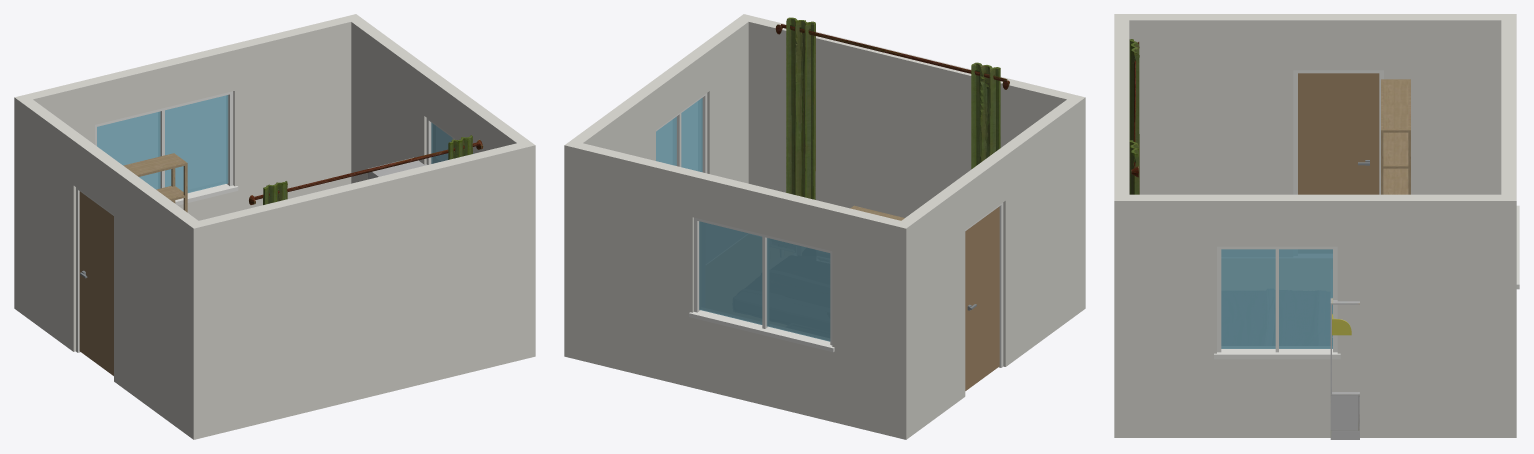
Rendered from layoutgpt.glb.
3 views of the same model, side by side, from view 1: azimuth 30°, elevation 25°; view 2: azimuth 150°, elevation 25°; view 3: azimuth 270°, elevation 25° (orthographic). The views are drawn at different scales.
Parts seen in each view (by area): view 1: wall|scenesmith_024__R00|0, wall|scenesmith_024__R00|2, wall|scenesmith_024__R00|1, wall|scenesmith_024__R00|3, wall|scenesmith_024__R00|1 Window 0 | glazing, wall|scenesmith_024__R00|2 Door 0 | wood leaf, wall|scenesmith_024__R00|1 Window 0 | jamb, scenesmith_024__R00_8, raw_model.003, wall|scenesmith_024__R00|2 Door 0 | jamb, wall|scenesmith_024__R00|3 Window 0 | glazing; view 2: wall|scenesmith_024__R00|1, wall|scenesmith_024__R00|0, wall|scenesmith_024__R00|2, wall|scenesmith_024__R00|3, wall|scenesmith_024__R00|1 Window 0 | glazing, scenesmith_024__R00_8, wall|scenesmith_024__R00|2 Door 0 | wood leaf, wall|scenesmith_024__R00|1 Window 0 | jamb, wall|scenesmith_024__R00|3 Window 0 | glazing, wall|scenesmith_024__R00|2 Door 0 | jamb, wall|scenesmith_024__R00|3 Window 0 | jamb; view 3: wall|scenesmith_024__R00|3, wall|scenesmith_024__R00|2, wall|scenesmith_024__R00|3 Window 0 | glazing, wall|scenesmith_024__R00|2 Door 0 | wood leaf, raw_model.003, wall|scenesmith_024__R00|3 Window 0 | jamb, wall|scenesmith_024__R00|0, wall|scenesmith_024__R00|1, raw_model.004, scenesmith_024__R00_8, wall|scenesmith_024__R00|2 Door 0 | jamb.
Part boxes in pixels (x1,y1,x2,y2): wall|scenesmith_024__R00|0: (187,140,535,439); wall|scenesmith_024__R00|2: (15,94,204,438); wall|scenesmith_024__R00|1: (14,14,362,313); wall|scenesmith_024__R00|3: (351,19,528,212); wall|scenesmith_024__R00|1 Window 0 | glazing: (97,95,228,192); wall|scenesmith_024__R00|2 Door 0 | wood leaf: (79,191,113,375); wall|scenesmith_024__R00|1 Window 0 | jamb: (95,91,238,205); scenesmith_024__R00_8: (249,135,483,204); raw_model.003: (123,153,187,212); wall|scenesmith_024__R00|2 Door 0 | jamb: (76,187,113,352); wall|scenesmith_024__R00|3 Window 0 | glazing: (431,122,473,163); wall|scenesmith_024__R00|1: (564,140,912,439); wall|scenesmith_024__R00|0: (737,14,1085,313); wall|scenesmith_024__R00|2: (895,94,1084,434); wall|scenesmith_024__R00|3: (571,19,748,183); wall|scenesmith_024__R00|1 Window 0 | glazing: (699,221,830,341); scenesmith_024__R00_8: (775,17,1009,199); wall|scenesmith_024__R00|2 Door 0 | wood leaf: (965,206,999,390); wall|scenesmith_024__R00|1 Window 0 | jamb: (689,217,834,352); wall|scenesmith_024__R00|3 Window 0 | glazing: (656,98,702,172); wall|scenesmith_024__R00|2 Door 0 | jamb: (965,202,1003,367); wall|scenesmith_024__R00|3 Window 0 | jamb: (656,93,707,173); wall|scenesmith_024__R00|3: (1114,194,1516,437); wall|scenesmith_024__R00|2: (1114,14,1516,194); wall|scenesmith_024__R00|3 Window 0 | glazing: (1221,249,1332,348); wall|scenesmith_024__R00|2 Door 0 | wood leaf: (1298,73,1379,194); raw_model.003: (1381,79,1410,194); wall|scenesmith_024__R00|3 Window 0 | jamb: (1214,246,1340,359); wall|scenesmith_024__R00|0: (1114,20,1129,200); wall|scenesmith_024__R00|1: (1501,20,1516,200); raw_model.004: (1330,298,1359,439); scenesmith_024__R00_8: (1129,39,1139,194); wall|scenesmith_024__R00|2 Door 0 | jamb: (1293,70,1383,194).
Size of the model in its own units: 4.45 by 2.81 by 4.03.
14 materials, 8 textured.
